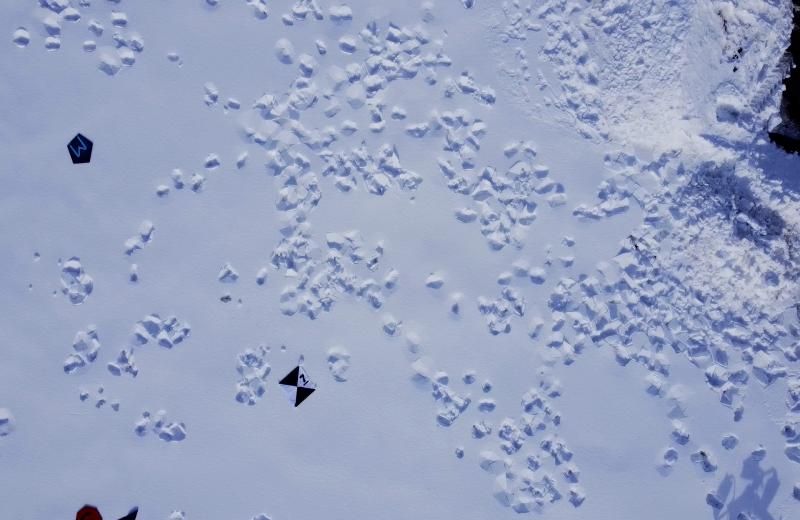Octagon: (70, 499, 106, 520)
Pentagon: (63, 129, 97, 168)
